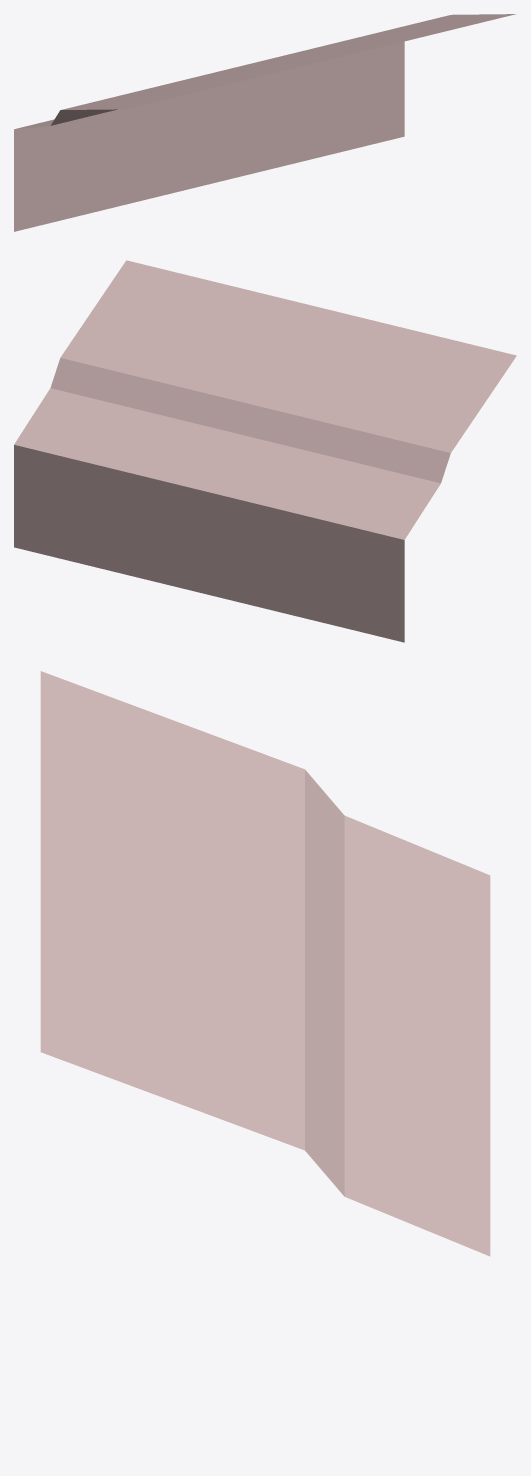
The model's file is castle_tower_medium_endpiece_01_straight.fbx.
3 renders of one model, top to bottom at view 1: azimuth 30°, elevation 25°; view 2: azimuth 150°, elevation 25°; view 3: azimuth 270°, elevation 25°, orthographic. The views are drawn at different scales.
Parts seen in each view (by area): view 1: castle_tower_medium_endpiece_01_straight; view 2: castle_tower_medium_endpiece_01_straight; view 3: castle_tower_medium_endpiece_01_straight.
Boxes of the visible parts, x1,y1,x2,y2 form: castle_tower_medium_endpiece_01_straight: [14, 14, 515, 231]; castle_tower_medium_endpiece_01_straight: [14, 260, 516, 642]; castle_tower_medium_endpiece_01_straight: [40, 671, 490, 1256].
Size of the model in its own units: 8 by 4.01 by 3.99.
